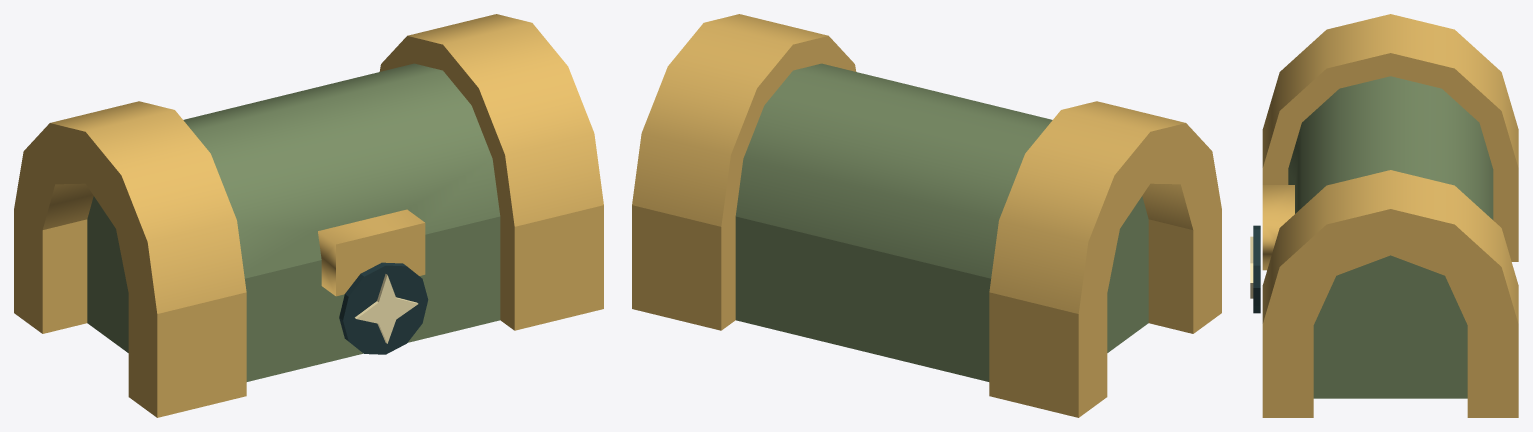
The picture shows the model from 3 angles, left to right: view 1: azimuth 30°, elevation 25°; view 2: azimuth 150°, elevation 25°; view 3: azimuth 270°, elevation 25°; orthographic projection. The views are drawn at different scales.
Parts seen in each view (by area): view 1: lid, chest, category badge, emblem; view 2: lid, chest; view 3: lid, chest, category badge.
Part boxes in pixels (<box>): lid: <box>14,14,603,313</box>; chest: <box>14,205,603,417</box>; category badge: <box>339,262,428,354</box>; emblem: <box>355,274,418,343</box>; lid: <box>632,14,1221,313</box>; chest: <box>632,205,1221,417</box>; lid: <box>1262,14,1518,324</box>; chest: <box>1262,169,1518,417</box>; category badge: <box>1253,225,1260,313</box>.
Bounding box in the file's own units: 2.29 × 1.15 × 1.34.
